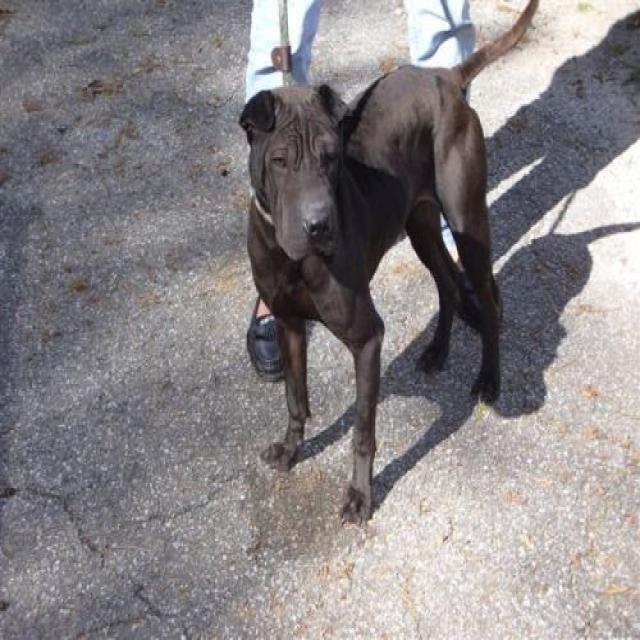dogs: (237, 0, 543, 526)
